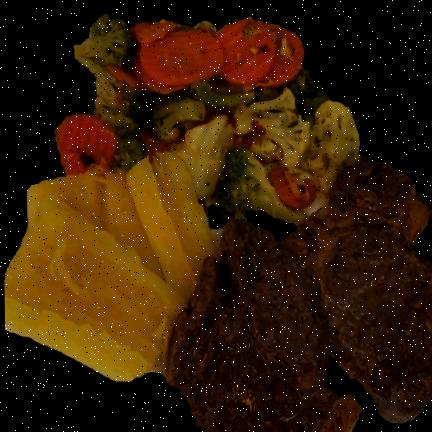broccoli: (69, 16, 262, 174), (212, 145, 310, 228)
carrot: (110, 17, 305, 94), (53, 113, 112, 176)
cassava: (4, 156, 216, 375)
cauliflower: (166, 90, 357, 201)
meat: (156, 162, 432, 432)
